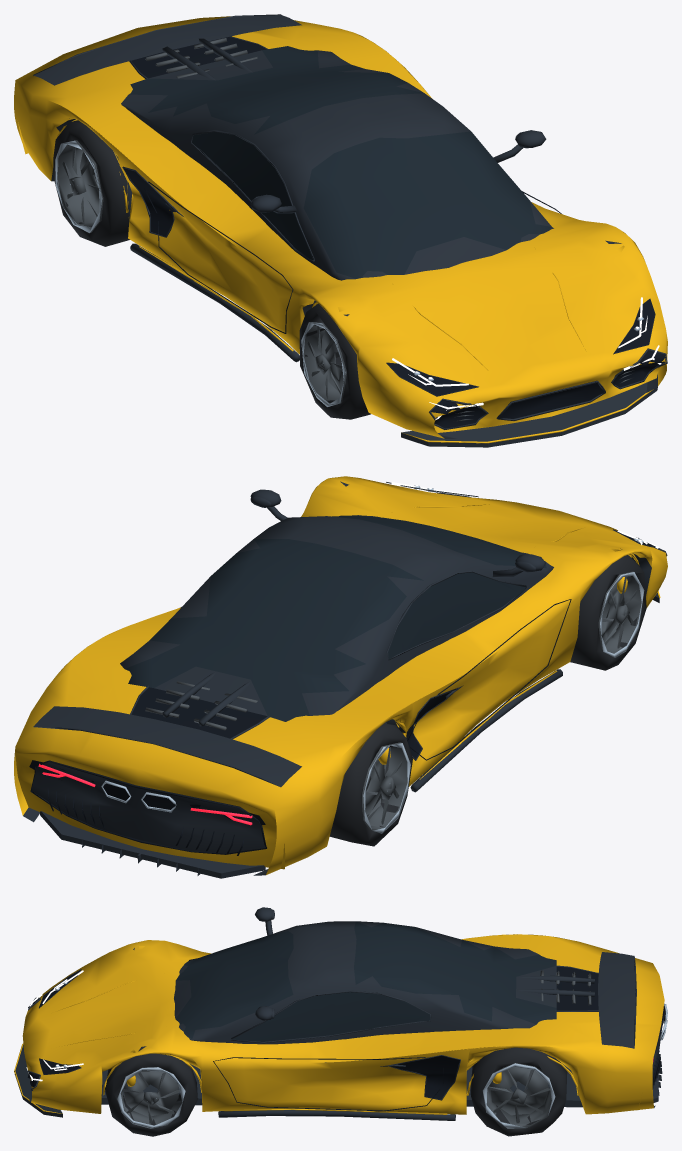
The model's file is Lamborghini_LOD2.glb.
The picture shows the model from 3 angles, top to bottom: view 1: azimuth 30°, elevation 25°; view 2: azimuth 150°, elevation 25°; view 3: azimuth 270°, elevation 25°; orthographic projection. The views are drawn at different scales.
Visible parts, largest first — view 1: Lamborghini_Body, Wheel_Rear_L, Wheel_Front_L; view 2: Lamborghini_Body, Wheel_Rear_L, Wheel_Front_L; view 3: Lamborghini_Body, Wheel_Rear_R, Wheel_Front_R.
Part boxes in pixels (x1,y1,x2,y2): Lamborghini_Body: (14, 14, 667, 447); Wheel_Rear_L: (53, 120, 129, 246); Wheel_Front_L: (299, 303, 370, 419); Lamborghini_Body: (14, 476, 667, 878); Wheel_Rear_L: (329, 723, 412, 846); Wheel_Front_L: (570, 555, 646, 670); Lamborghini_Body: (14, 907, 667, 1120); Wheel_Rear_R: (470, 1047, 567, 1136); Wheel_Front_R: (105, 1053, 197, 1136).
Bounding box in the file's own units: 2.13 × 1.16 × 4.95.
